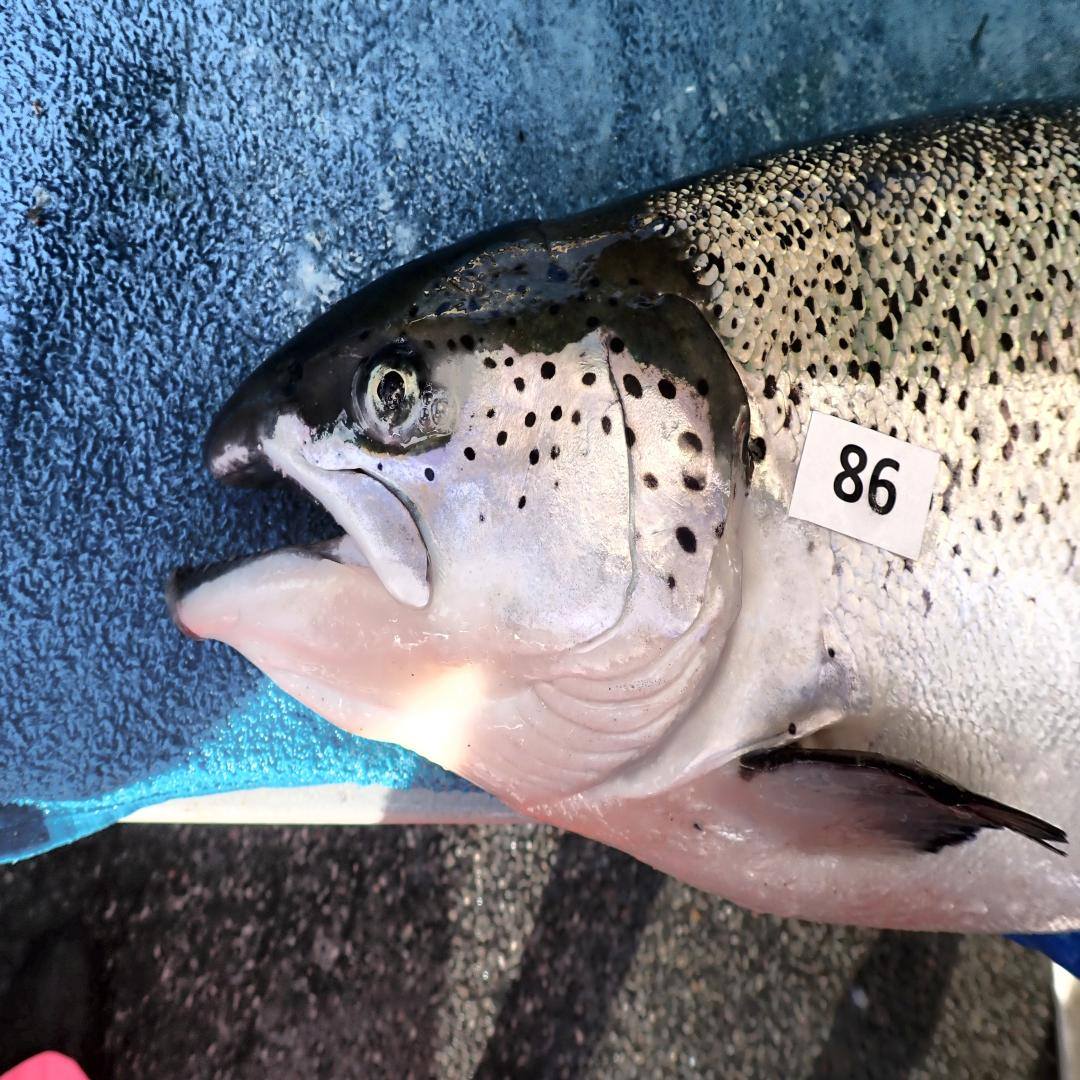spot: (675, 526, 696, 554), (678, 431, 703, 454), (622, 374, 643, 399), (682, 473, 707, 490), (658, 379, 677, 399), (540, 361, 557, 380), (644, 472, 659, 491), (695, 378, 708, 396), (610, 338, 624, 354), (624, 428, 635, 447), (582, 371, 596, 385), (601, 416, 612, 433), (551, 405, 562, 422), (525, 411, 536, 428), (529, 447, 539, 465), (464, 446, 476, 461), (497, 430, 508, 445), (514, 377, 525, 391), (424, 467, 435, 481), (715, 523, 724, 539), (483, 357, 496, 368), (572, 411, 580, 425), (551, 444, 559, 458), (667, 577, 676, 589), (504, 356, 513, 367), (519, 495, 526, 509), (487, 408, 495, 419), (479, 514, 485, 522), (554, 481, 559, 488)
